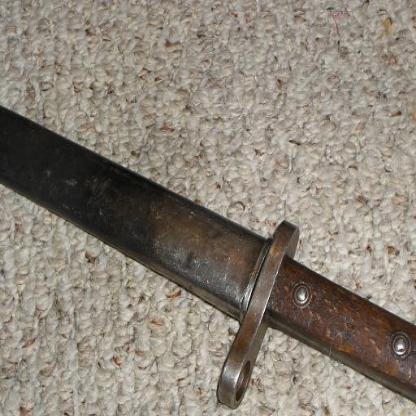knife: (0, 46, 415, 415)
